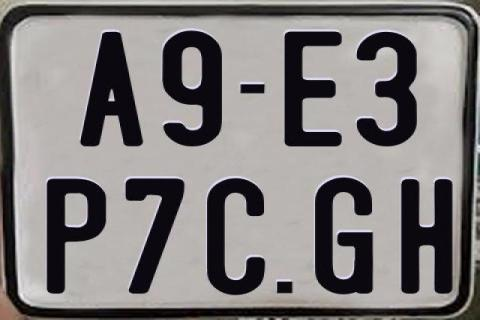0: (162, 30, 226, 148), (123, 179, 187, 297), (356, 32, 416, 151)
A: (78, 31, 145, 148)
C: (206, 177, 265, 299)
E: (283, 30, 342, 146)
G: (314, 175, 375, 293)
H: (401, 179, 457, 296)
P: (48, 177, 110, 296)
